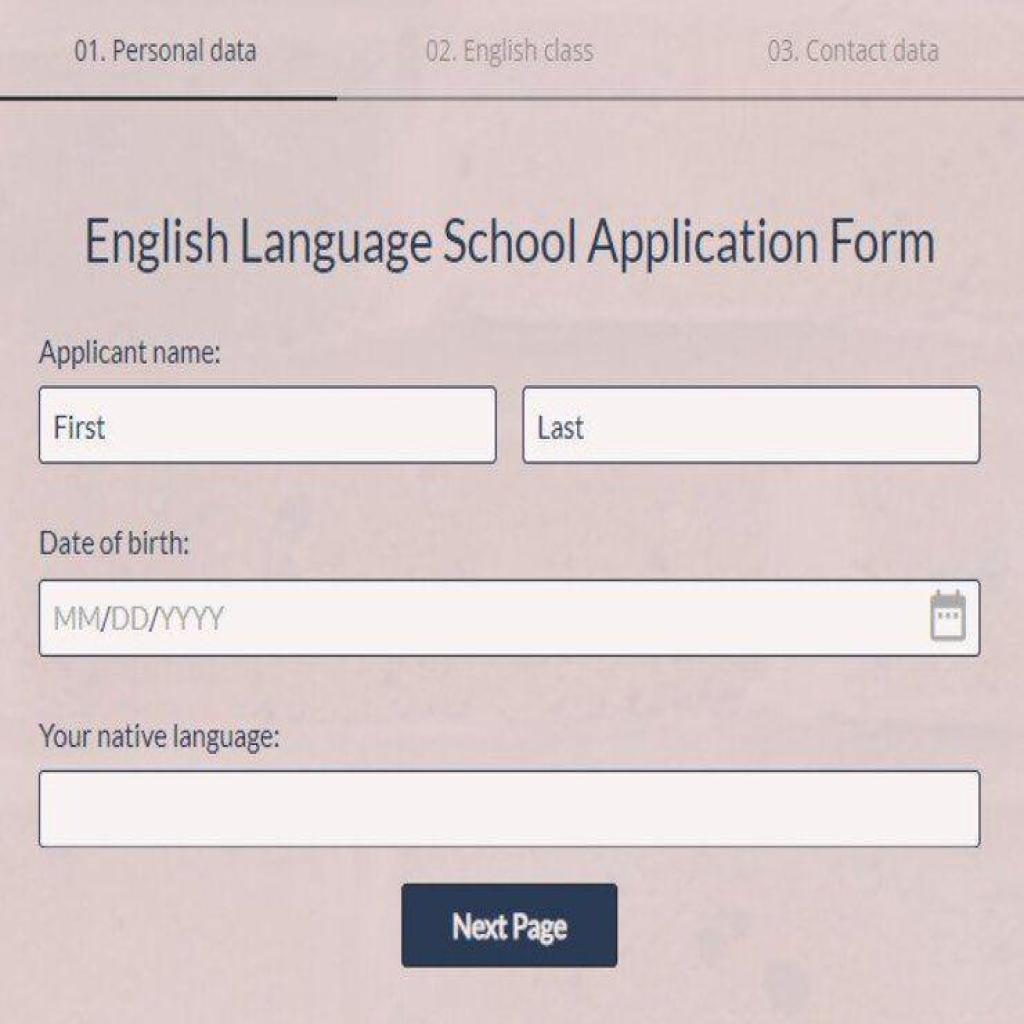button: (401, 884, 619, 968)
input: (42, 580, 980, 660), (40, 770, 978, 848), (522, 385, 984, 466), (41, 390, 497, 462)
label: (68, 187, 944, 288), (33, 711, 284, 765), (408, 25, 609, 76), (58, 25, 269, 72), (36, 335, 227, 378), (32, 520, 195, 569), (769, 32, 941, 72)
